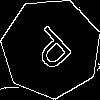P: (25, 23, 81, 80)
